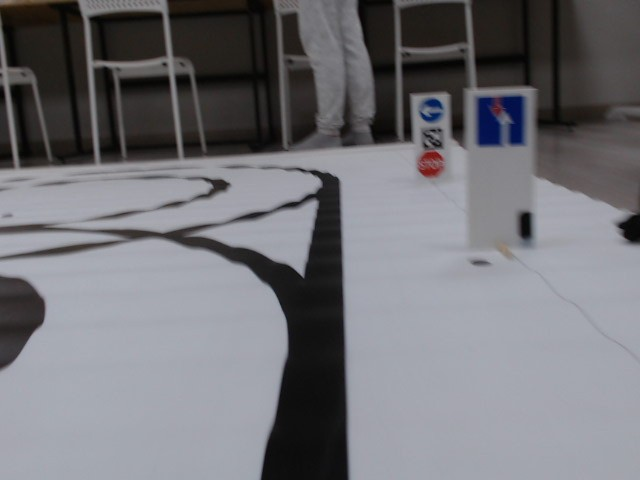Stop: (416, 151, 444, 176)
priority_movement: (474, 94, 529, 149)
